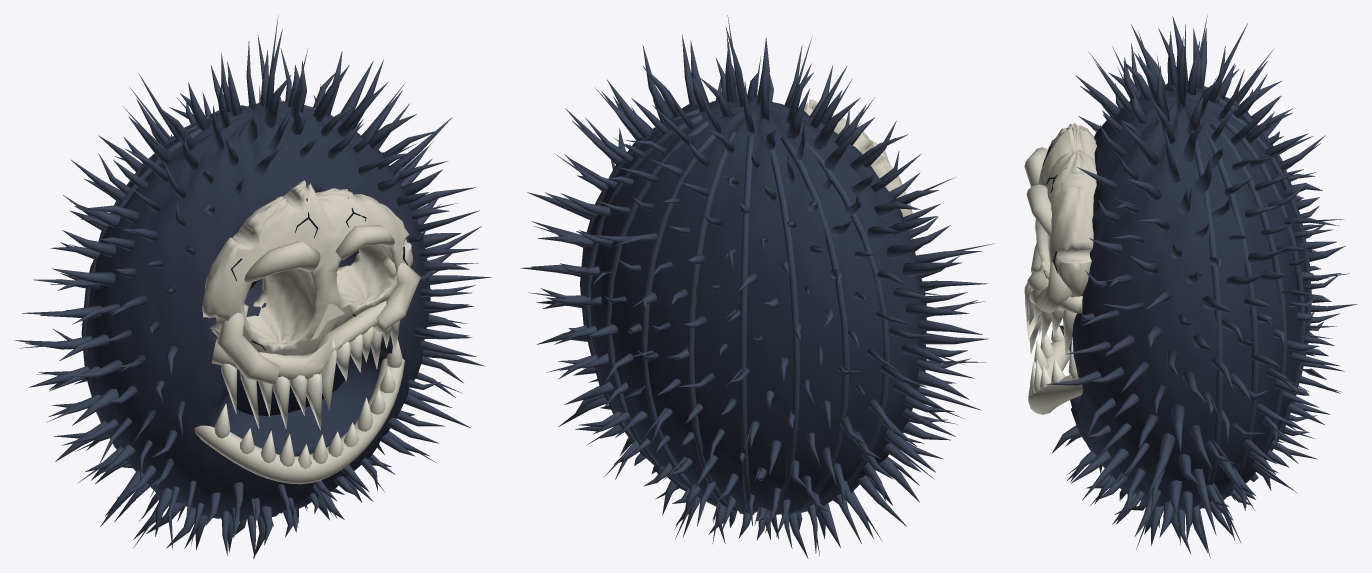
The model's file is SpineSkull.fbx.
3 views of the same model, side by side, from view 1: azimuth 30°, elevation 25°; view 2: azimuth 150°, elevation 25°; view 3: azimuth 270°, elevation 25° (orthographic).
Visible parts, largest first — view 1: Body, Spines, SkullMask, Jaw, DarkRecesses; view 2: Body, Spines, SkullMask; view 3: Body, Spines, SkullMask, Jaw.
Boxes of the visible parts, box(x1,y1,x2,y2) form: Body: box(85, 101, 430, 520); Spines: box(14, 15, 491, 558); SkullMask: box(202, 180, 420, 430); Jaw: box(194, 339, 404, 484); DarkRecesses: box(231, 197, 407, 415); Body: box(582, 96, 926, 515); Spines: box(520, 15, 995, 558); SkullMask: box(804, 99, 912, 239); Body: box(1059, 82, 1308, 510); Spines: box(1046, 15, 1357, 558); SkullMask: box(1024, 123, 1096, 359); Jaw: box(1028, 325, 1082, 414).
Bounding box in the file's own units: 3.19 × 3.57 × 2.05.
